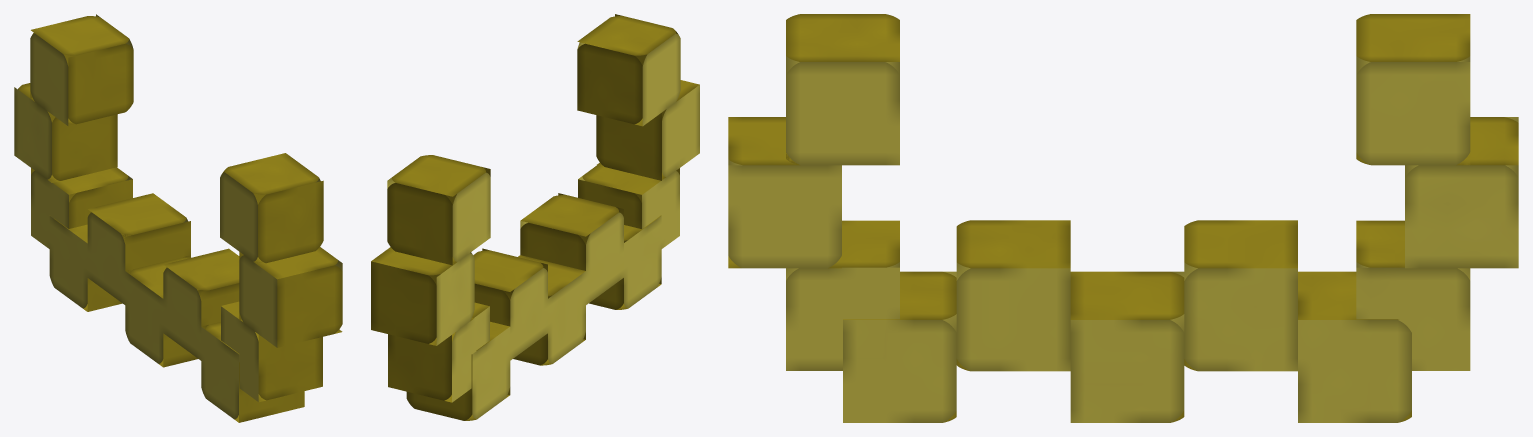
The model's file is glove.obj.
The picture shows the model from 3 angles, left to right: view 1: azimuth 30°, elevation 25°; view 2: azimuth 150°, elevation 25°; view 3: azimuth 270°, elevation 25°; orthographic projection. The views are drawn at different scales.
Parts seen in each view (by area): view 1: Cube; view 2: Cube; view 3: Cube.
Boxes of the visible parts, box(x1,y1,x2,y2) form: Cube: box(14, 14, 342, 422); Cube: box(371, 14, 699, 420); Cube: box(728, 14, 1518, 422).
Size of the model in its own units: 0.1 by 0.35 by 0.6948.
